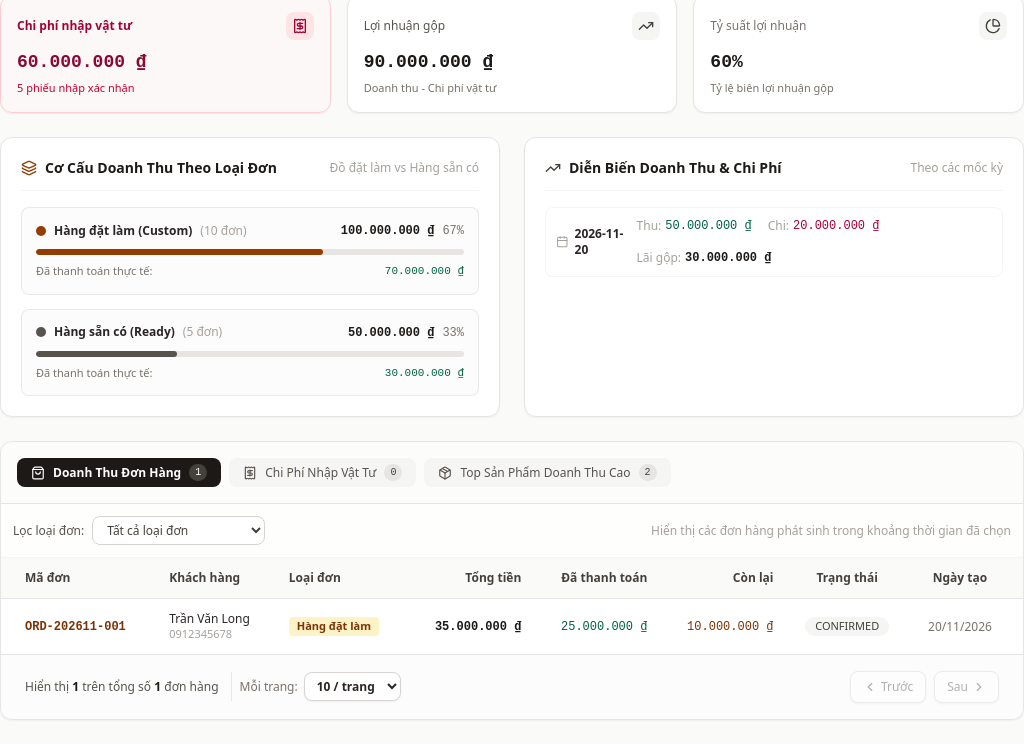
Test case: ManageFinancialReportsPage Component › switches between detail tabs (Orders, Receipts, Top Products)
The width and height of the screenshot is (1024, 744).
(page scrolled)
Expected: the text "ORD-202611-001" is shown, [1,599,157,654]
Expected: the text "Trần Văn Long" is shown, [169,610,250,627]
Click the button "Chi Phí Nhập Vật Tư 0". click: (323, 473)
box: [229,458,416,487]
(page scrolled)
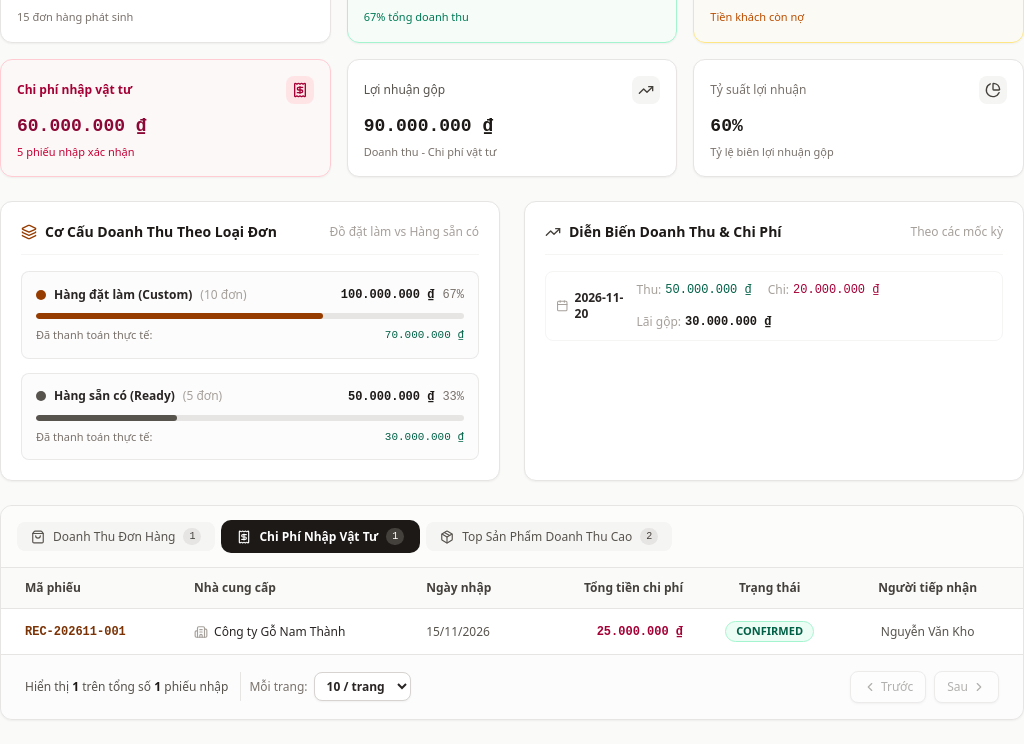
Expected: the text "REC-202611-001" is shown, [1,609,182,654]
Expected: the text "Công ty Gỗ Nam Thành" is shown, [214,624,345,640]
Click the button "Top Sản Phẩm Doanh Thu Cao 2". click: (549, 537)
box: [426,522,672,551]
(page scrolled)
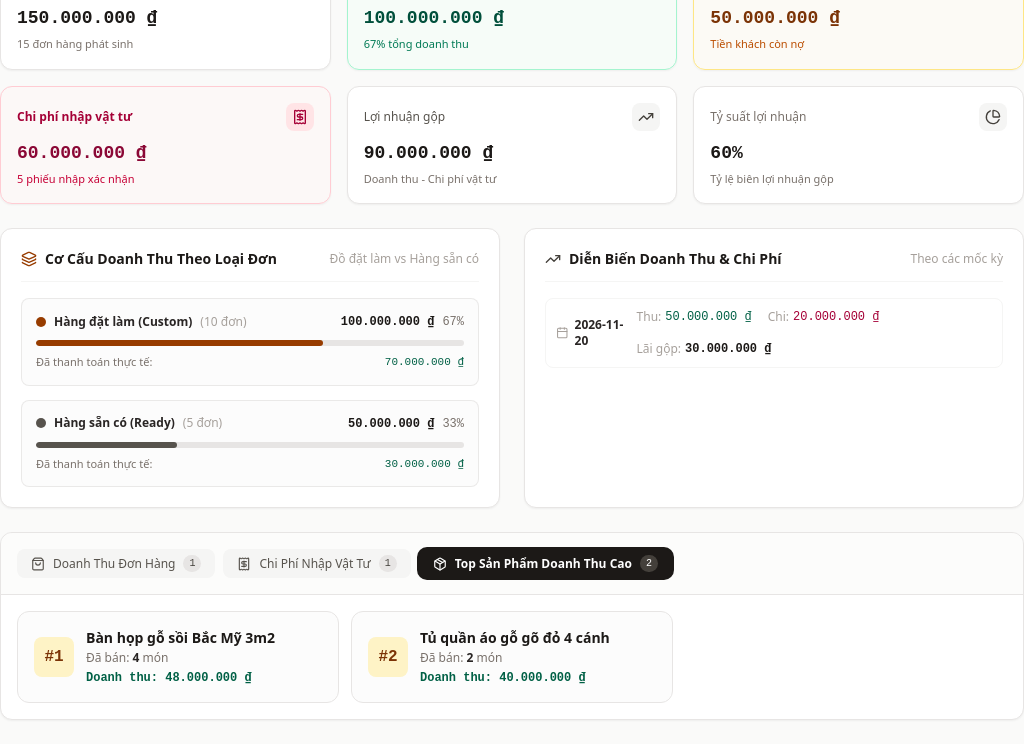
Expected: the heading "Bàn họp gỗ sồi Bắc Mỹ 3m2" is shown, [86,628,275,647]
Expected: the heading "Tủ quần áo gỗ gõ đỏ 4 cánh" is shown, [420,628,610,647]
